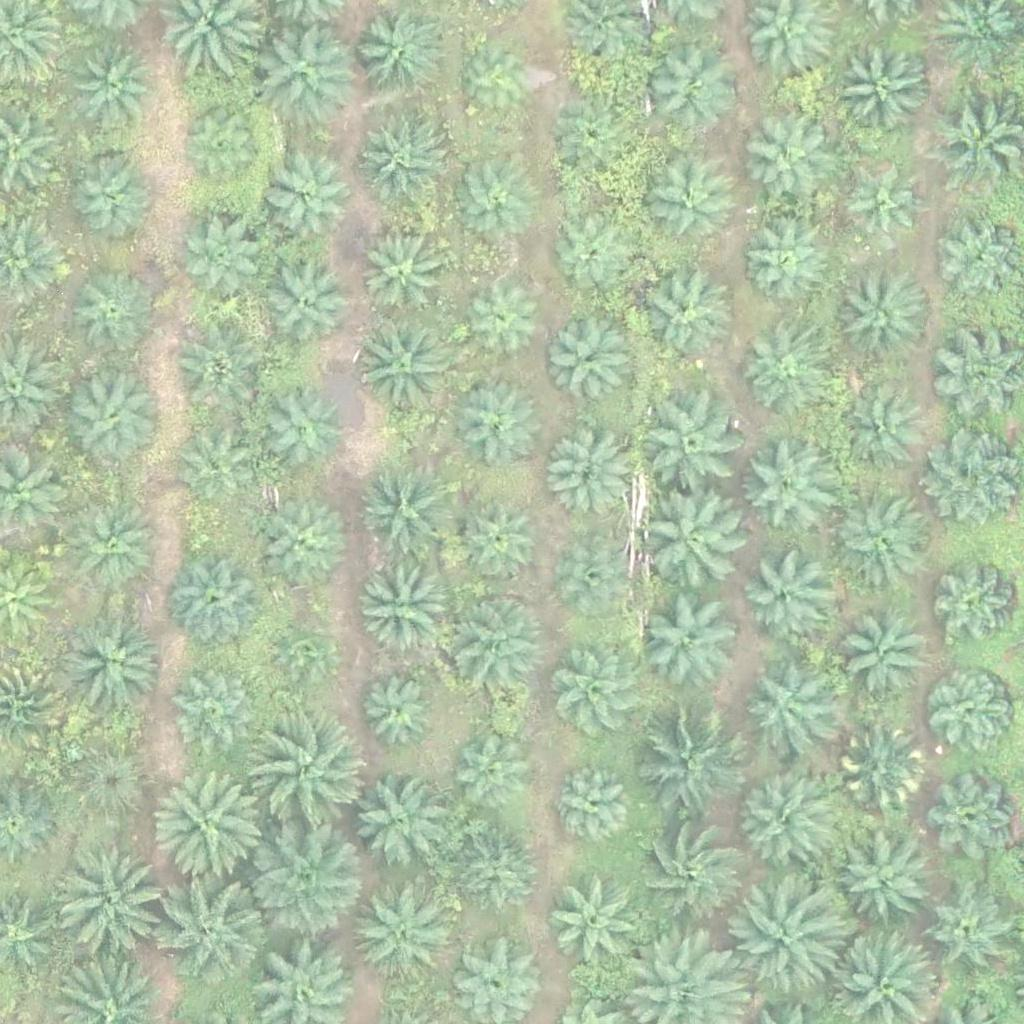Kelapa_Sawit: (52, 849, 165, 963), (635, 487, 748, 601), (247, 826, 360, 939), (158, 872, 271, 985), (154, 768, 267, 881), (734, 887, 846, 1001), (635, 711, 747, 825), (254, 716, 366, 830), (631, 818, 743, 931), (836, 831, 936, 932), (647, 592, 747, 693), (546, 876, 646, 977), (441, 592, 541, 693), (350, 880, 450, 981), (168, 552, 268, 653), (60, 609, 160, 710), (62, 361, 162, 462), (60, 494, 160, 595), (259, 24, 359, 125), (354, 320, 454, 421), (357, 460, 457, 561), (632, 270, 732, 371), (647, 395, 747, 496), (737, 107, 837, 208), (831, 490, 931, 591), (832, 41, 932, 142), (730, 774, 830, 874), (355, 559, 455, 659), (349, 775, 449, 875), (738, 433, 838, 533), (548, 762, 636, 851), (358, 13, 446, 102), (740, 552, 828, 640), (741, 668, 829, 756), (556, 652, 644, 740), (450, 725, 538, 813), (62, 742, 150, 830), (171, 673, 259, 761), (67, 152, 155, 240), (68, 272, 156, 360), (182, 216, 270, 304), (175, 330, 263, 418), (260, 159, 348, 247), (264, 260, 352, 348), (256, 389, 344, 477), (358, 119, 446, 207), (554, 98, 642, 186), (645, 46, 733, 134), (641, 158, 729, 246), (739, 223, 827, 311), (841, 267, 929, 355), (70, 38, 157, 127), (835, 160, 922, 249), (931, 566, 1018, 654), (928, 675, 1015, 763), (931, 774, 1018, 862), (928, 891, 1015, 979), (838, 727, 925, 815), (837, 612, 924, 700), (453, 830, 540, 918), (173, 425, 260, 513), (176, 107, 263, 195), (263, 505, 350, 593), (361, 233, 448, 321), (456, 497, 543, 585), (456, 379, 543, 467), (463, 275, 550, 363), (451, 152, 538, 240), (550, 215, 637, 303), (549, 324, 636, 412), (546, 432, 633, 520), (738, 330, 825, 418), (836, 388, 923, 476), (461, 46, 536, 122), (360, 675, 435, 751), (560, 542, 635, 618), (271, 619, 333, 682)
